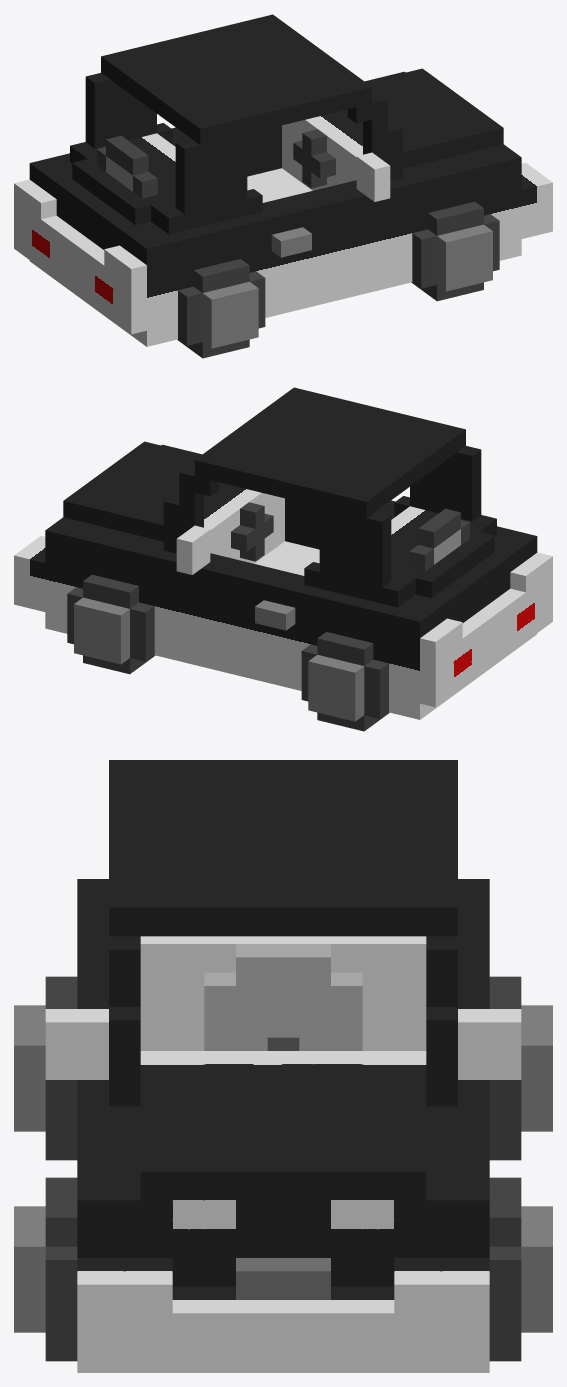
Rendered from veh_car1c.dae.
3 renders of one model, top to bottom at view 1: azimuth 30°, elevation 25°; view 2: azimuth 150°, elevation 25°; view 3: azimuth 270°, elevation 25°, orthographic. The views are drawn at different scales.
Parts seen in each view (by area): view 1: veh_car1c; view 2: veh_car1c; view 3: veh_car1c.
Boxes of the visible parts, x1=… form: veh_car1c: x1=14, y1=14, x2=552, y2=358; veh_car1c: x1=14, y1=387, x2=552, y2=731; veh_car1c: x1=14, y1=760, x2=552, y2=1372.
Bounding box in the file's own units: 2.7 × 1.7 × 1.3.
1 material, 1 textured.
